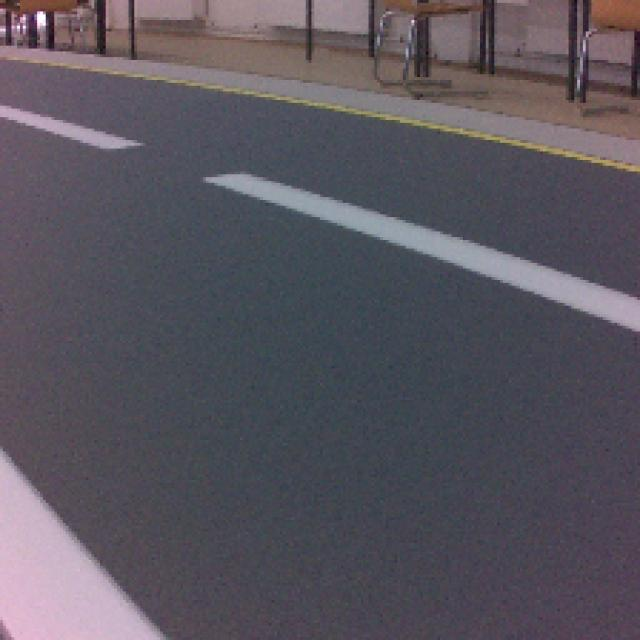Guard rail: (0, 449, 169, 638)
